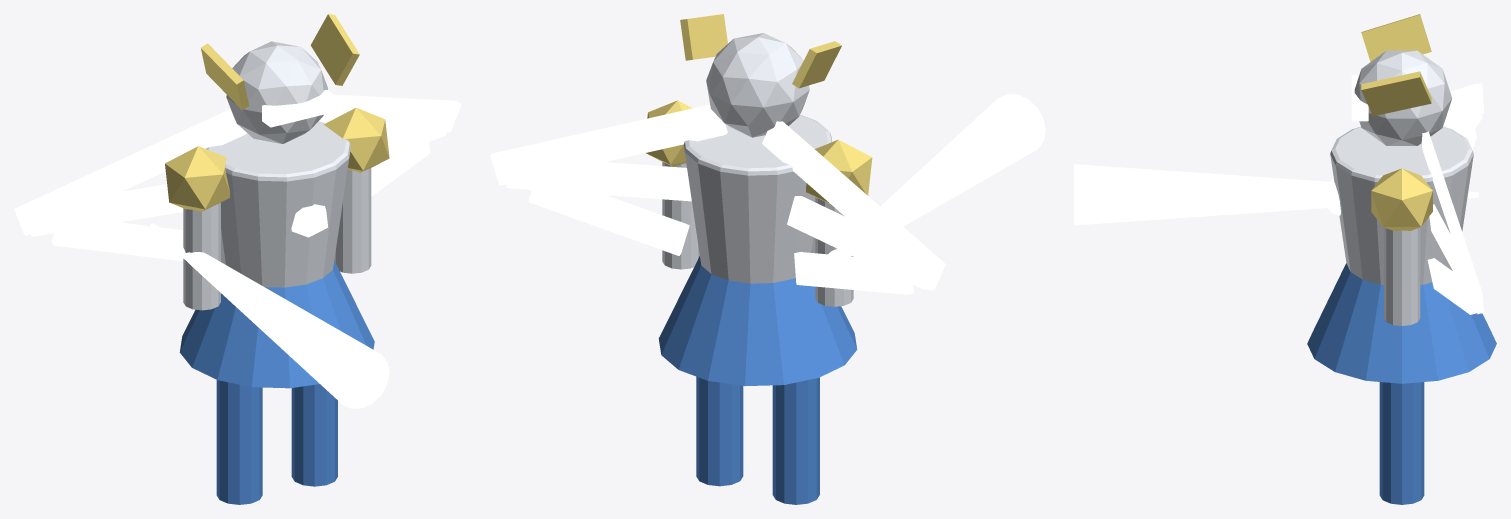
Rendered from valkyrie_seraph.fbx.
3 views of the same model, side by side, from view 1: azimuth 30°, elevation 25°; view 2: azimuth 150°, elevation 25°; view 3: azimuth 270°, elevation 25° (orthographic). The views are drawn at different scales.
Parts seen in each view (by area): view 1: Cone, Cone.001, Cone.002, Icosphere.001, Cube, Cylinder.003, Cylinder.002, Cube.001, Cube.002, Icosphere.003, Cylinder, Cylinder.001 (+8 smaller); view 2: Cone.001, Cone, Cone.002, Icosphere.001, Cube.003, Cube, Cylinder.003, Cylinder.002, Cube.004, Cube.005, Cube.001, Cube.002 (+6 smaller); view 3: Cone.001, Cone.002, Cone, Cylinder.002, Icosphere.001, Cylinder, Icosphere.002, Cube.008, Cube.003, Cube.007, Cube.005, Cube.004 (+2 smaller).
Boxes of the visible parts, left/top/right/bottom form: Cone: left=205, top=121, right=350, bottom=287; Cone.001: left=179, top=260, right=374, bottom=388; Cone.002: left=150, top=223, right=389, bottom=408; Icosphere.001: left=226, top=41, right=327, bottom=143; Cube: left=14, top=109, right=247, bottom=235; Cylinder.003: left=216, top=380, right=262, bottom=504; Cylinder.002: left=291, top=384, right=337, bottom=486; Cube.001: left=30, top=184, right=183, bottom=236; Cube.002: left=51, top=218, right=183, bottom=261; Icosphere.003: left=165, top=146, right=229, bottom=211; Cylinder: left=334, top=168, right=371, bottom=273; Cylinder.001: left=183, top=202, right=220, bottom=310; Cone.001: left=658, top=256, right=857, bottom=386; Cone: left=683, top=115, right=831, bottom=283; Cone.002: left=801, top=94, right=1045, bottom=282; Icosphere.001: left=706, top=33, right=809, bottom=137; Cube.003: left=490, top=104, right=727, bottom=185; Cube: left=762, top=121, right=945, bottom=290; Cylinder.003: left=772, top=377, right=819, bottom=504; Cylinder.002: left=696, top=376, right=743, bottom=486; Cube.004: left=506, top=162, right=691, bottom=201; Cube.005: left=528, top=190, right=689, bottom=255; Cube.001: left=787, top=196, right=927, bottom=289; Cube.002: left=794, top=252, right=913, bottom=294; Cone.001: left=1307, top=263, right=1496, bottom=383; Cone.002: left=1074, top=164, right=1478, bottom=225; Cone: left=1330, top=127, right=1473, bottom=284; Cylinder.002: left=1379, top=382, right=1424, bottom=504; Icosphere.001: left=1354, top=50, right=1452, bottom=145; Cylinder: left=1384, top=227, right=1420, bottom=325; Icosphere.002: left=1371, top=168, right=1432, bottom=230; Cube.008: left=1361, top=71, right=1431, bottom=116; Cube.003: left=1421, top=131, right=1483, bottom=314; Cube.007: left=1361, top=14, right=1431, bottom=61; Cube.005: left=1427, top=258, right=1476, bottom=314; Cube.004: left=1429, top=204, right=1476, bottom=312.
Size of the model in its own units: 1.78 by 1.72 by 1.51.
